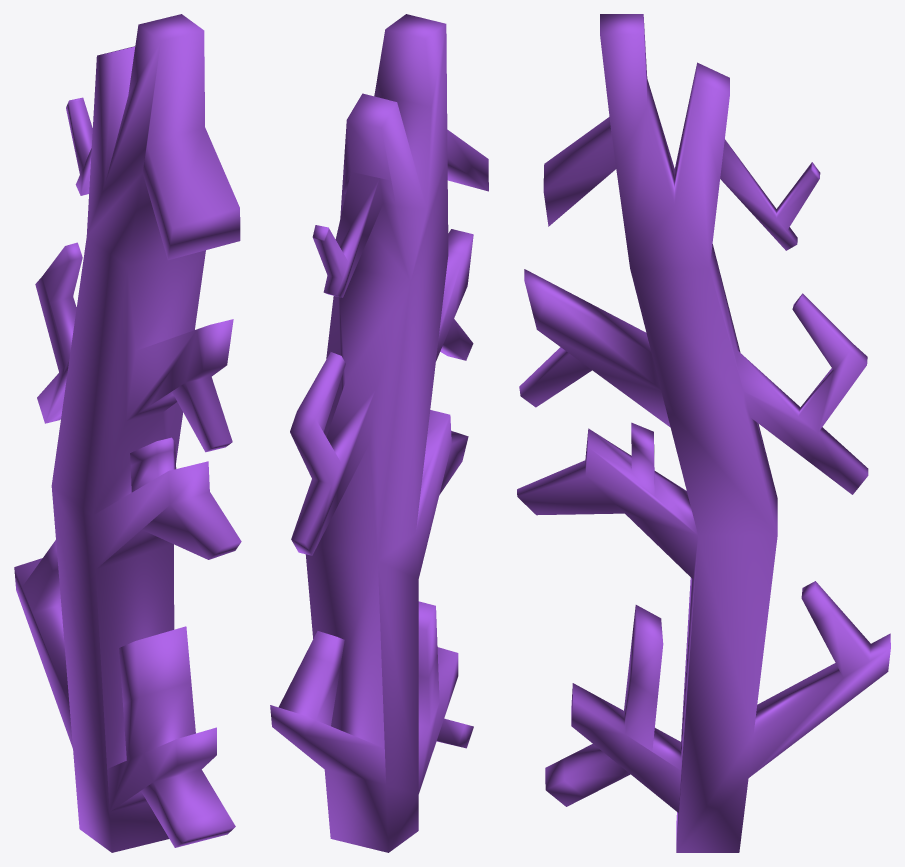
Rendered from Coral1_morado.glb.
3 views of the same model, side by side, from view 1: azimuth 30°, elevation 25°; view 2: azimuth 150°, elevation 25°; view 3: azimuth 270°, elevation 25° (orthographic). The views are drawn at different scales.
Visible parts, largest first — view 1: Cube; view 2: Cube; view 3: Cube.
Boxes of the visible parts, bbox=[...] form: Cube: bbox=[14, 14, 241, 852]; Cube: bbox=[270, 14, 488, 852]; Cube: bbox=[517, 14, 890, 852].
Bounding box in the file's own units: 0.613 × 6.1 × 2.54.
